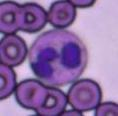N: (29, 29, 88, 84)
